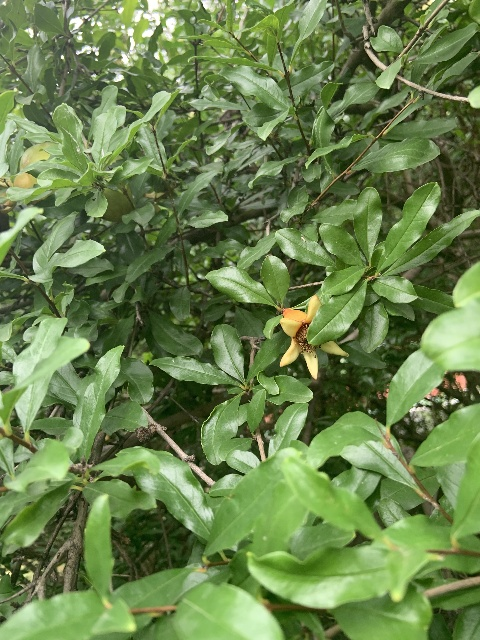early-fruit: (278, 292, 352, 380)
mid-growth: (0, 142, 55, 214), (100, 178, 165, 222)
